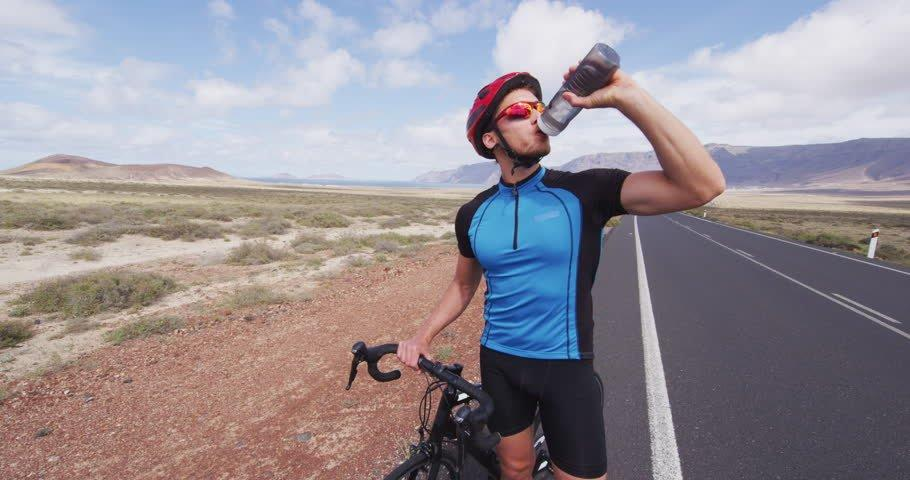Drinking: (484, 40, 622, 162)
